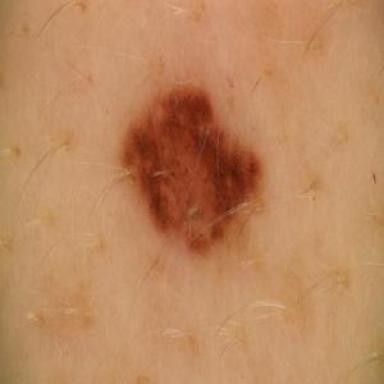Melanoma: (123, 86, 260, 251)
